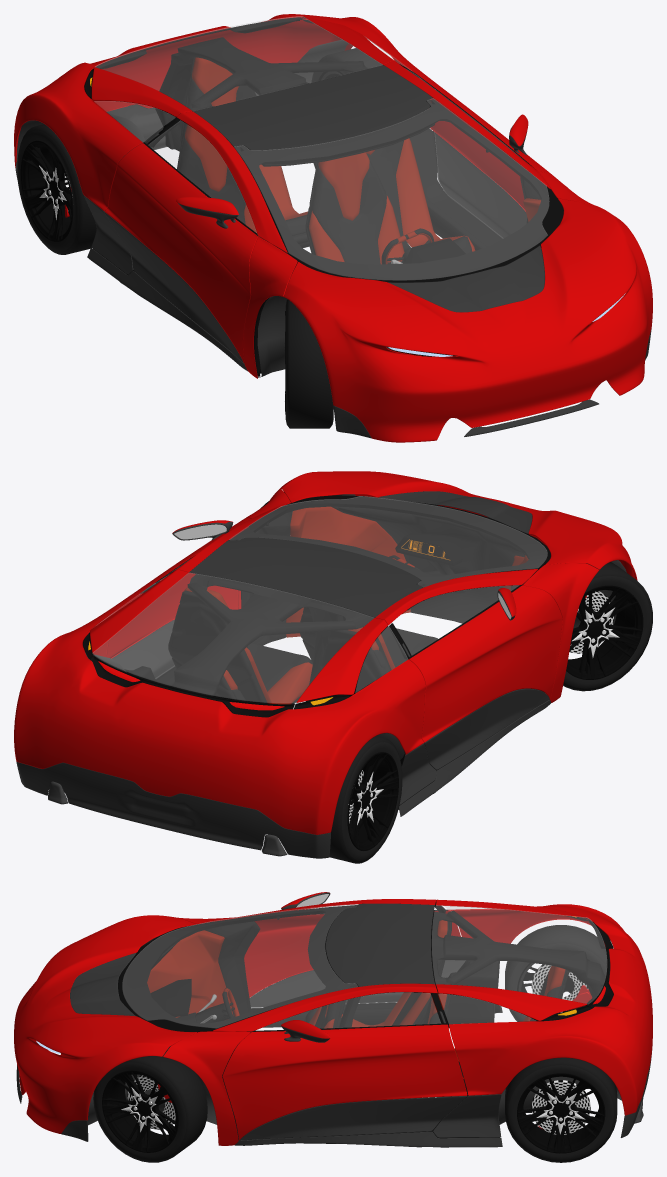
Rendered from voiture.glb.
3 renders of one model, top to bottom at view 1: azimuth 30°, elevation 25°; view 2: azimuth 150°, elevation 25°; view 3: azimuth 270°, elevation 25°, orthographic. The views are drawn at different scales.
Visible parts, largest first — view 1: BodyHood, BodyWindshield, BodyRearPanelsColor1, BodyRearwindow, BodyDoorRColor1, BodyWindshieldGasket, BodyRoofPanel, InteriorSeatsColor1, InteriorSeatsColor2, BodyPillars, InteriorPillar, BodyPanelsColor2 (+15 smaller); view 2: BodyRearPanelsColor1, BodyRearwindow, BodyWindshield, BodyPanelsColor2, BodyDoorRColor1, BodyRoofPanel, InteriorPillar, BodyHood, BodyPillars, InteriorDashMid, BodyWindshieldGasket, InteriorSeatsFrame1 (+17 smaller); view 3: BodyRearPanelsColor1, BodyWindshield, BodyDoorLColor1, BodyHood, BodyRearwindow, BodyRoofPanel, BodyPillars, BodyWindshieldGasket, BodyDoorLColor2, InteriorMid, BodyPanelsColor2, InteriorPillar (+23 smaller).
Boxes of the visible parts, bbox=[...] form: BodyHood: bbox=[283, 198, 652, 442]; BodyWindshield: bbox=[234, 98, 549, 280]; BodyRearPanelsColor1: bbox=[14, 14, 434, 210]; BodyRearwindow: bbox=[95, 16, 382, 110]; BodyDoorRColor1: bbox=[104, 143, 257, 362]; BodyWindshieldGasket: bbox=[234, 99, 563, 282]; BodyRoofPanel: bbox=[193, 65, 432, 150]; InteriorSeatsColor1: bbox=[185, 57, 475, 264]; InteriorSeatsColor2: bbox=[180, 78, 472, 264]; BodyPillars: bbox=[176, 61, 598, 378]; InteriorPillar: bbox=[155, 37, 434, 168]; BodyPanelsColor2: bbox=[15, 92, 651, 438]; BodyRearPanelsColor1: bbox=[14, 569, 425, 834]; BodyRearwindow: bbox=[92, 573, 373, 703]; BodyWindshield: bbox=[229, 496, 547, 587]; BodyPanelsColor2: bbox=[16, 666, 550, 858]; BodyDoorRColor1: bbox=[409, 585, 562, 742]; BodyRoofPanel: bbox=[189, 537, 422, 617]; InteriorPillar: bbox=[171, 574, 417, 701]; BodyHood: bbox=[279, 471, 637, 580]; BodyPillars: bbox=[175, 489, 599, 702]; InteriorDashMid: bbox=[331, 503, 528, 623]; BodyWindshieldGasket: bbox=[230, 495, 550, 587]; InteriorSeatsFrame1: bbox=[168, 591, 384, 710]; BodyRearPanelsColor1: bbox=[436, 899, 652, 1115]; BodyWindshield: bbox=[122, 904, 357, 1028]; BodyDoorLColor1: bbox=[222, 1024, 467, 1139]; BodyHood: bbox=[14, 915, 196, 1133]; BodyRearwindow: bbox=[432, 905, 606, 1003]; BodyRoofPanel: bbox=[326, 903, 434, 986]; BodyPillars: bbox=[163, 899, 437, 1145]; BodyWindshieldGasket: bbox=[118, 905, 357, 1032]; BodyDoorLColor2: bbox=[240, 1096, 467, 1140]; InteriorMid: bbox=[205, 921, 500, 1143]; BodyPanelsColor2: bbox=[16, 1002, 652, 1147]; InteriorPillar: bbox=[322, 910, 613, 1027].
Size of the model in its own units: 2.54 by 1.15 by 4.36.
21 materials, 3 textured.
